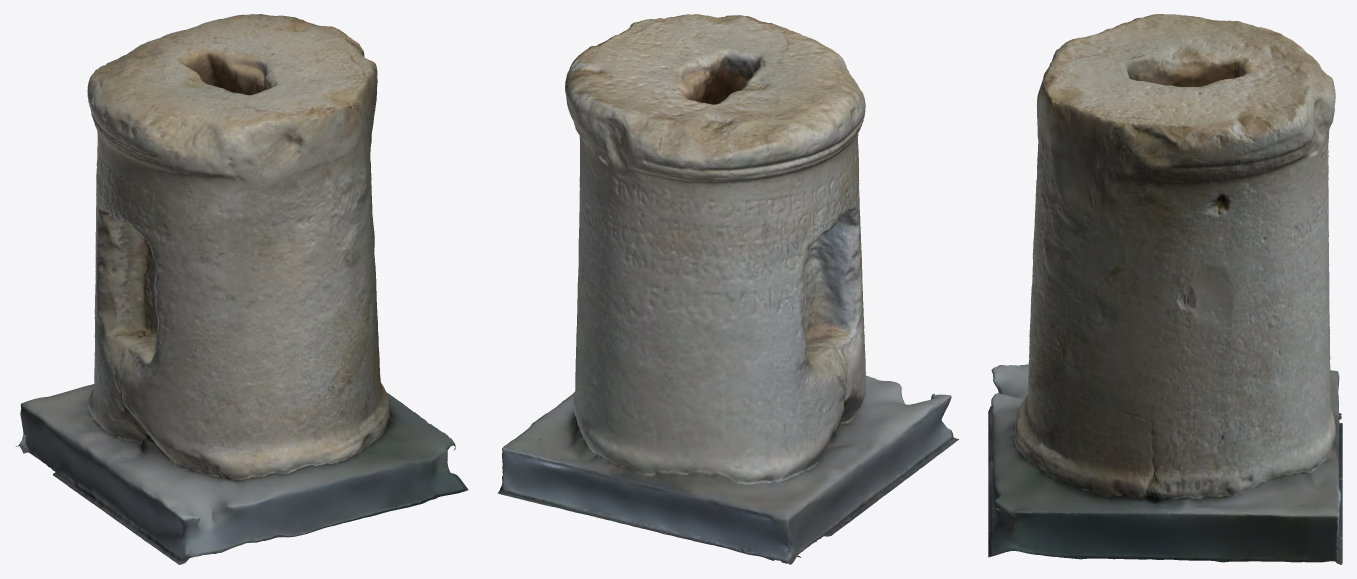
Rendered from altare_della_fortuna.glb.
3 renders of one model, left to right at view 1: azimuth 30°, elevation 25°; view 2: azimuth 150°, elevation 25°; view 3: azimuth 270°, elevation 25°, orthographic. The views are drawn at different scales.
Parts seen in each view (by area): view 1: Node1; view 2: Node1; view 3: Node1.
Boxes of the visible parts, <box> form: Node1: <box>16,14,468,564</box>; Node1: <box>497,14,958,564</box>; Node1: <box>988,14,1342,564</box>.
Size of the model in its own units: 42107 by 55200 by 41764.
Materials: 1 (1 with a texture image).
